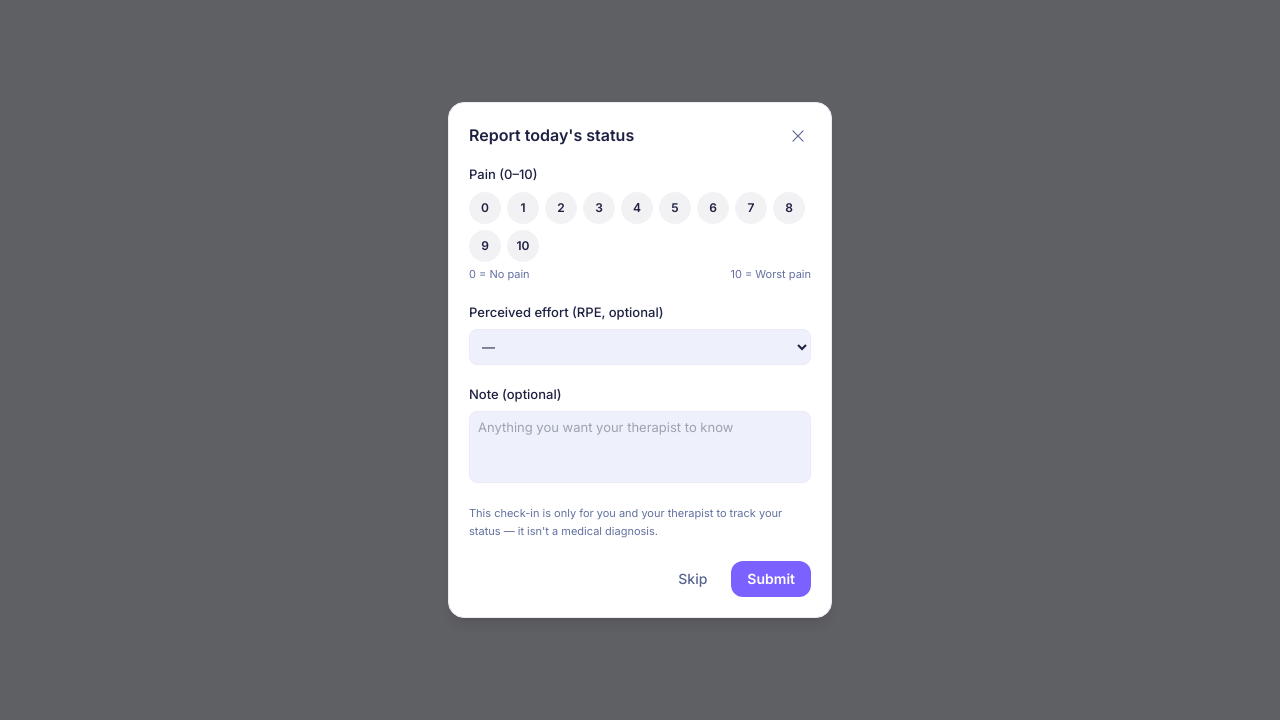
CheckinDialog › requires a pain rating before submitting
Click the button "Submit": (771, 579) [731,561,811,597]
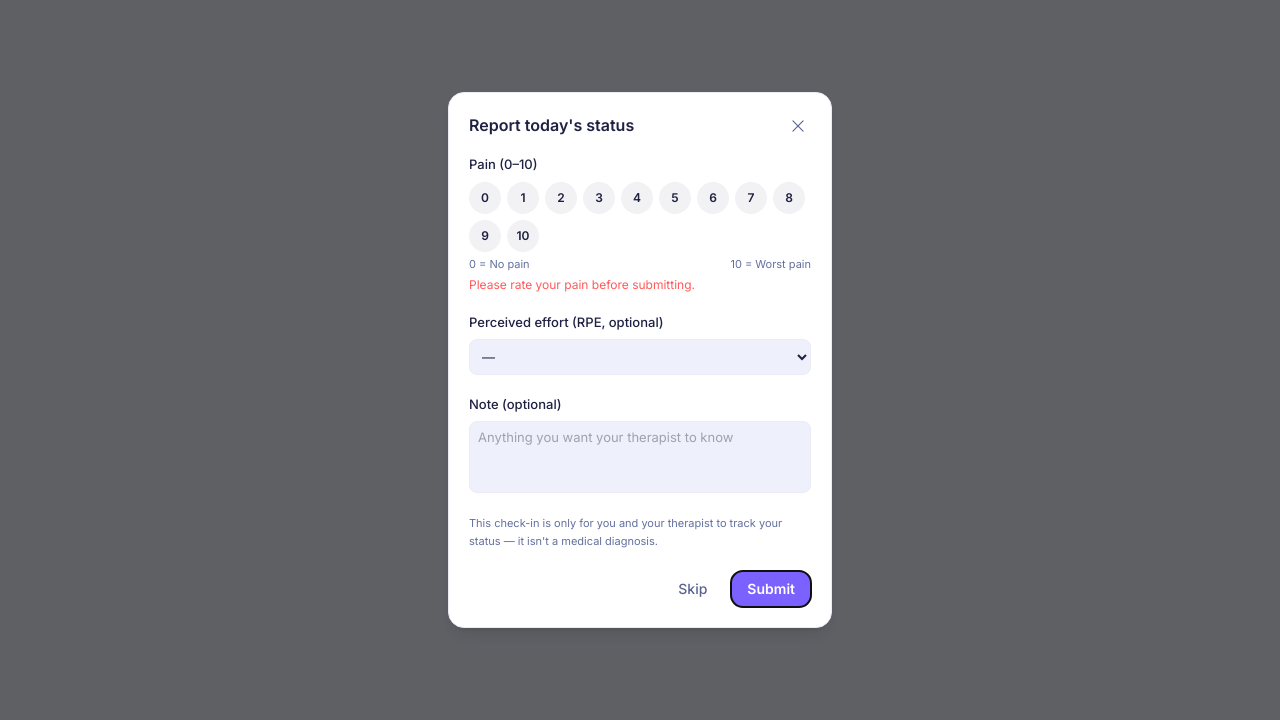
Result: the text "Please rate your pain before submitting." is shown at [469,277,695,292]
